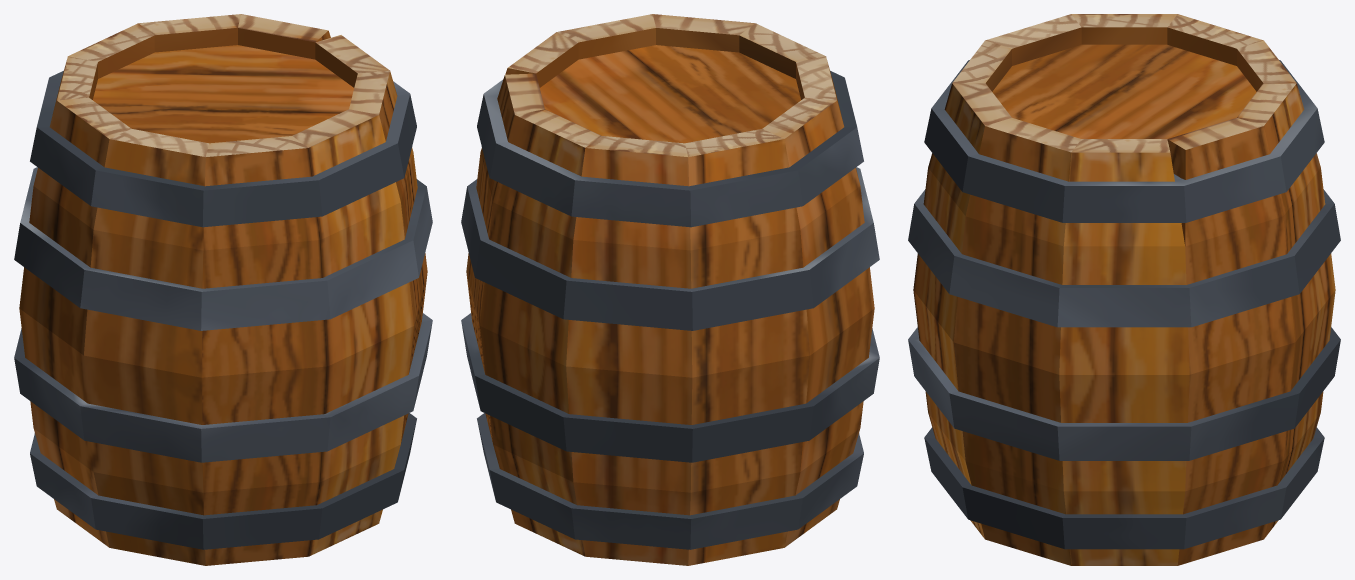
Rendered from barrel_01.fbx.
3 views of the same model, side by side, from view 1: azimuth 30°, elevation 25°; view 2: azimuth 150°, elevation 25°; view 3: azimuth 270°, elevation 25° (orthographic).
Visible parts, largest first — view 1: barrel_01; view 2: barrel_01; view 3: barrel_01.
Boxes of the visible parts, x1,y1,x2,y2 form: barrel_01: (14, 14, 432, 565); barrel_01: (461, 14, 879, 565); barrel_01: (908, 14, 1340, 565).
Size of the model in its own units: 36.93 by 40.91 by 38.83.
